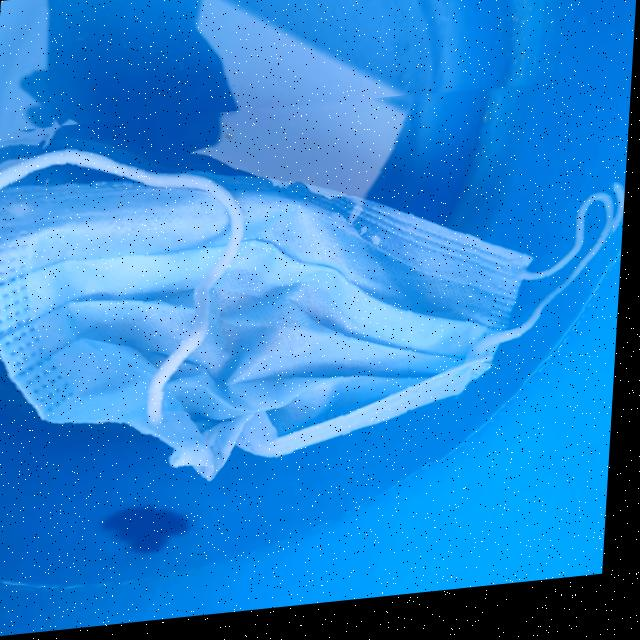litter: (0, 79, 634, 509)
